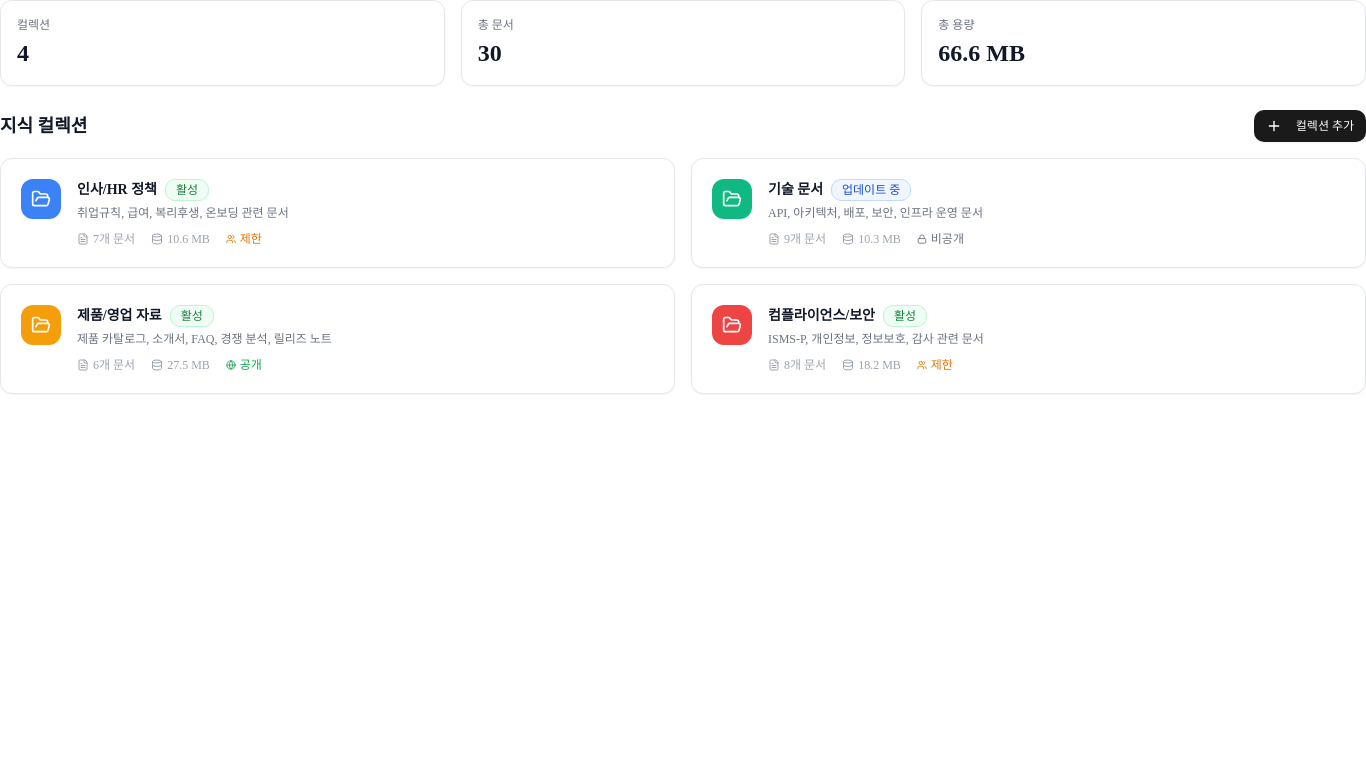
Scenario: KnowledgeBaseView — QA Edge Cases › User Interaction Tests › upload dialog shows and closes with cancel button
Click the button "인사/HR 정책 활성 취업규칙, 급여, 복리후생, 온보딩 관련 문서 7개 문서 10.6 MB 제한" at {"x": 41, "y": 199}, box [0,158,675,268]
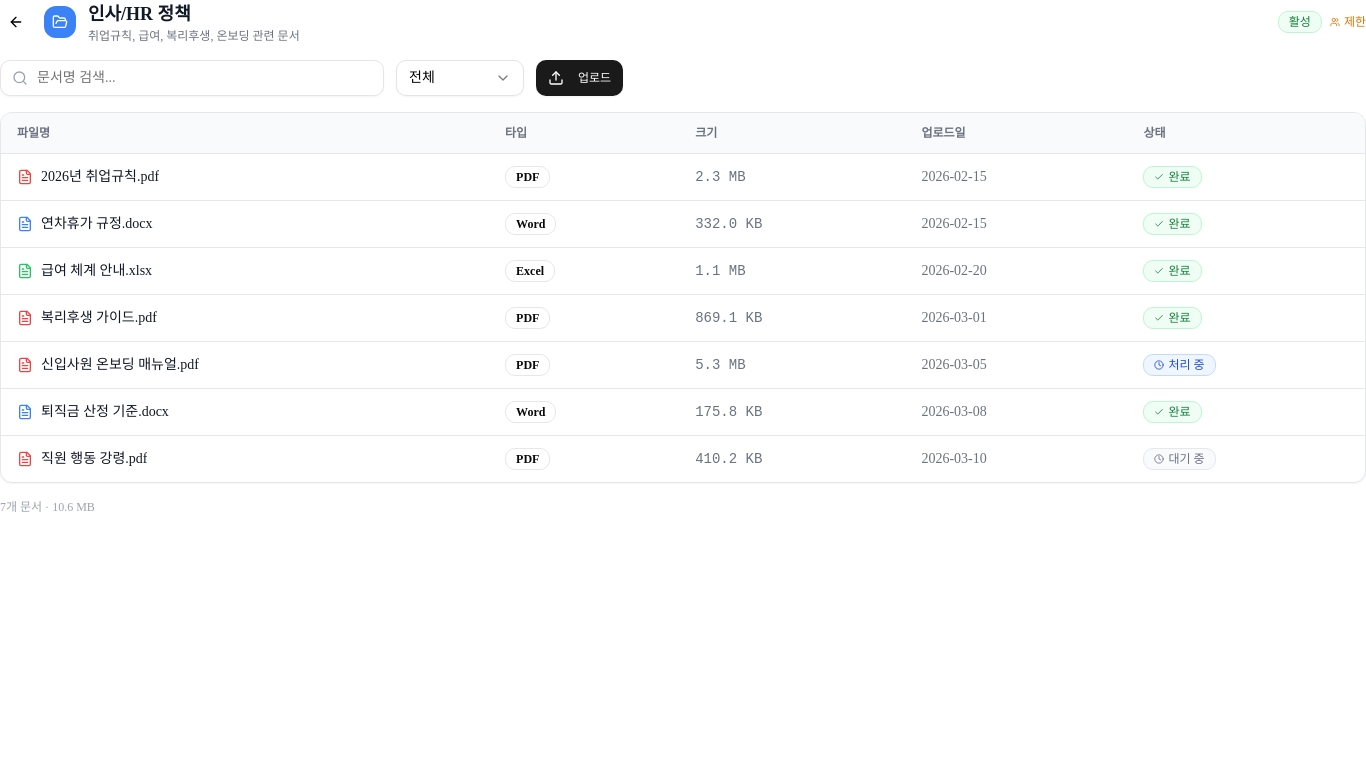
Note: Open upload
Click the button "업로드" at {"x": 580, "y": 78}, box [536,60,623,96]
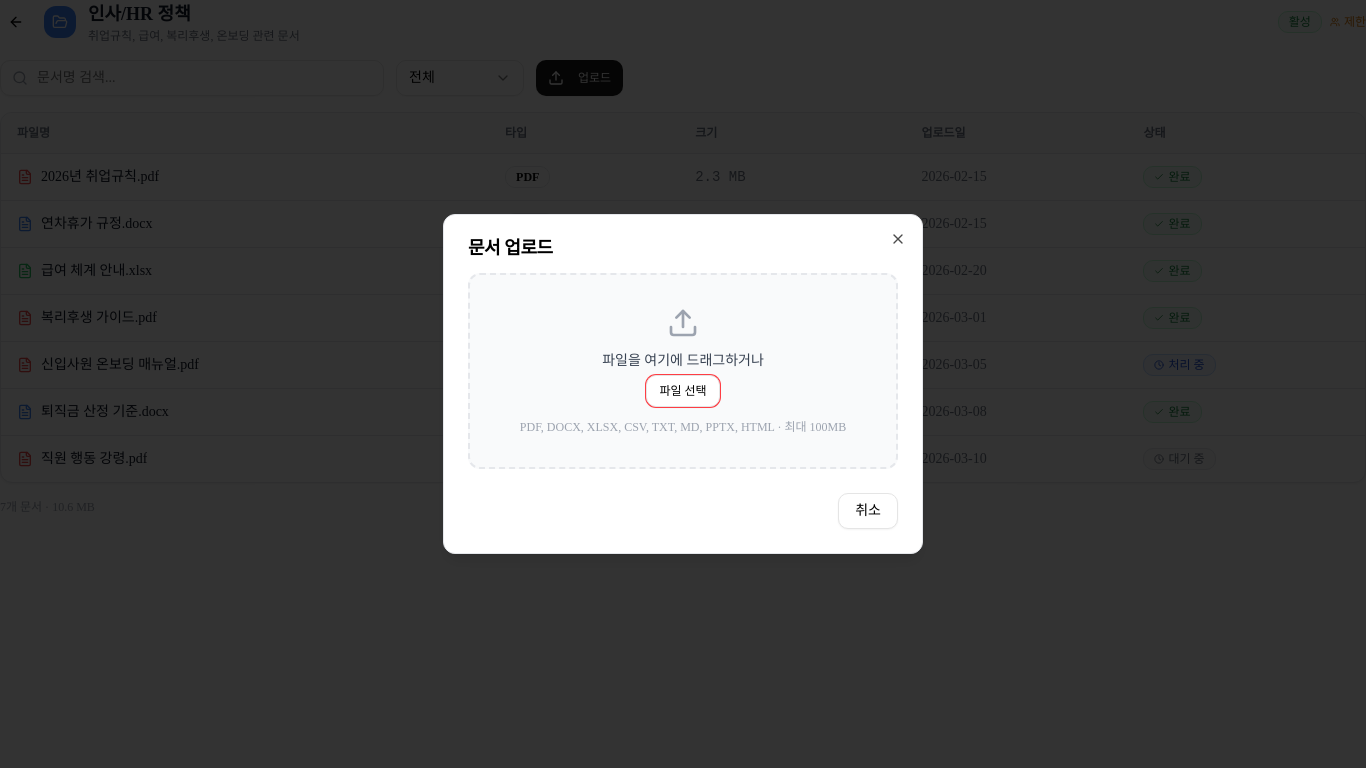
Expected: the heading "문서 업로드" is shown, [468,238,553,258]
Note: Close with cancel
Click the button "취소" at {"x": 868, "y": 511}, box [838,493,898,529]
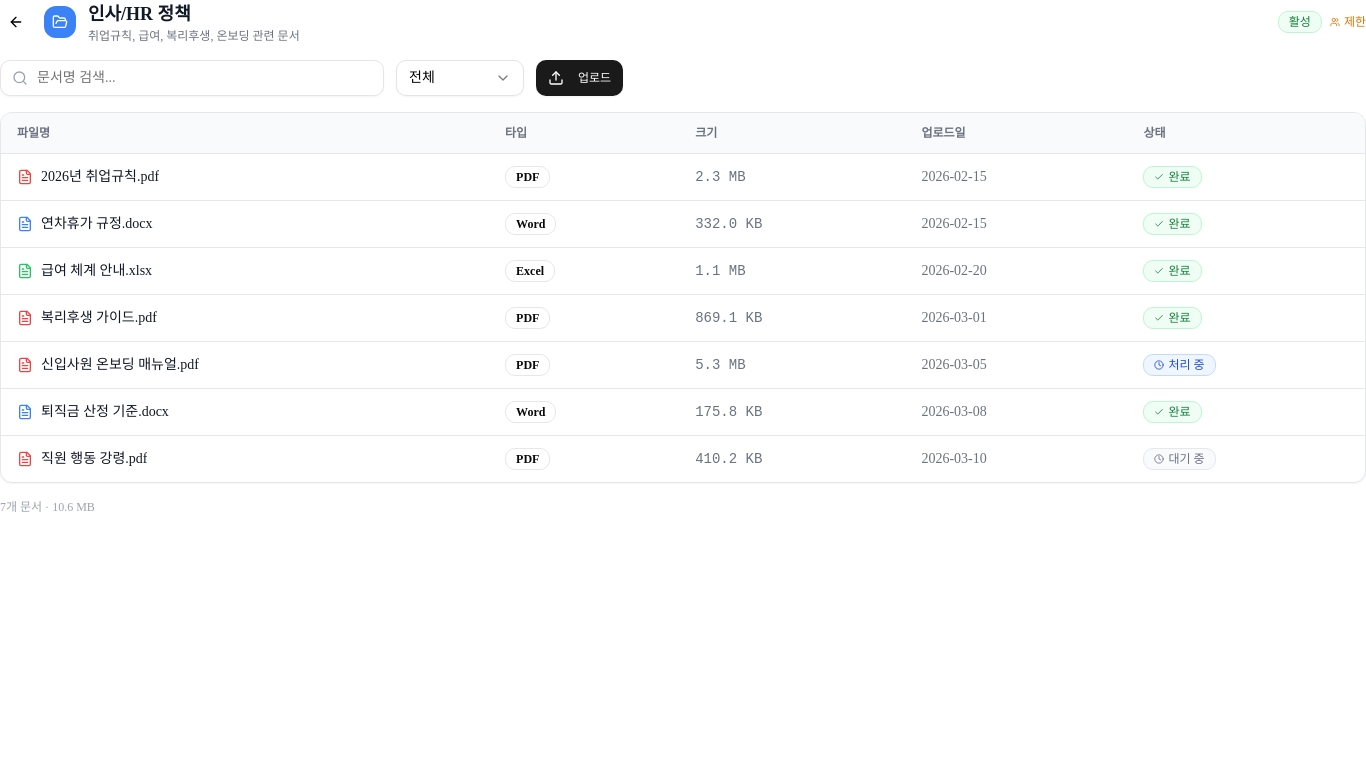
Expected: the heading "문서 업로드" is gone
